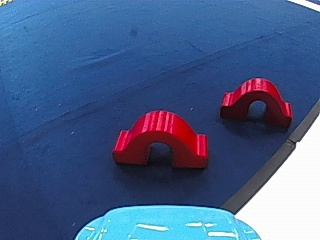bridge: (109, 103, 210, 169), (218, 73, 296, 127)
